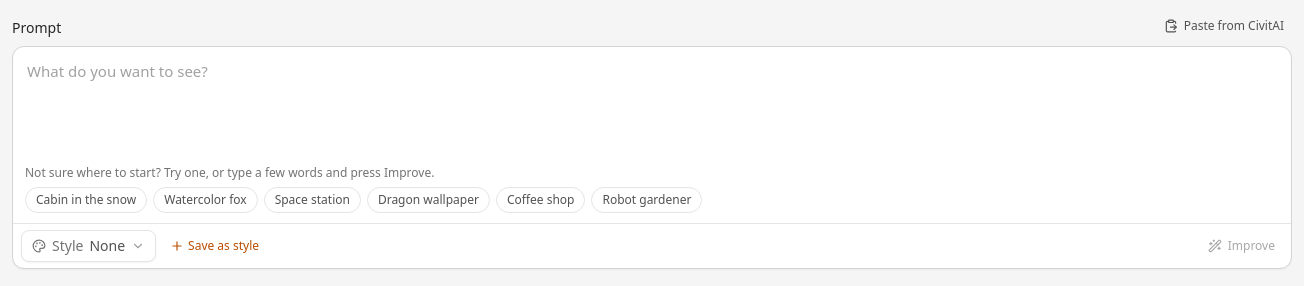
Starter ideas › fill an empty prompt and go away once there is text
Click the button "Watercolor fox" at (205, 200), box [153,187,258,213]
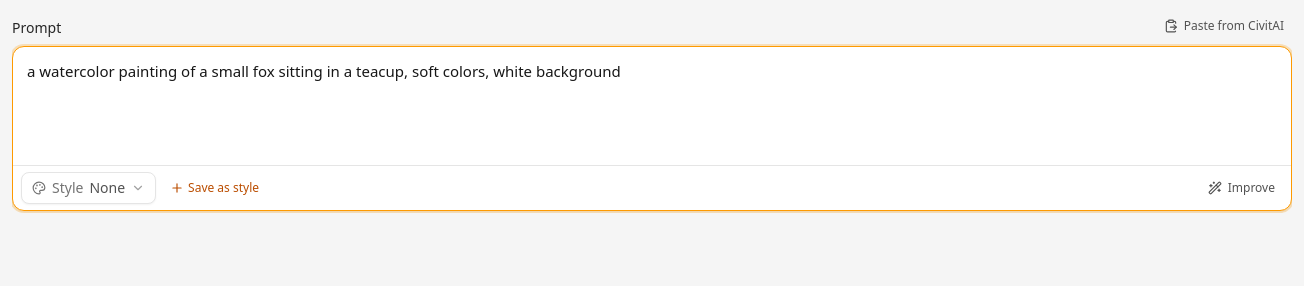
Now the button "Watercolor fox" is gone
